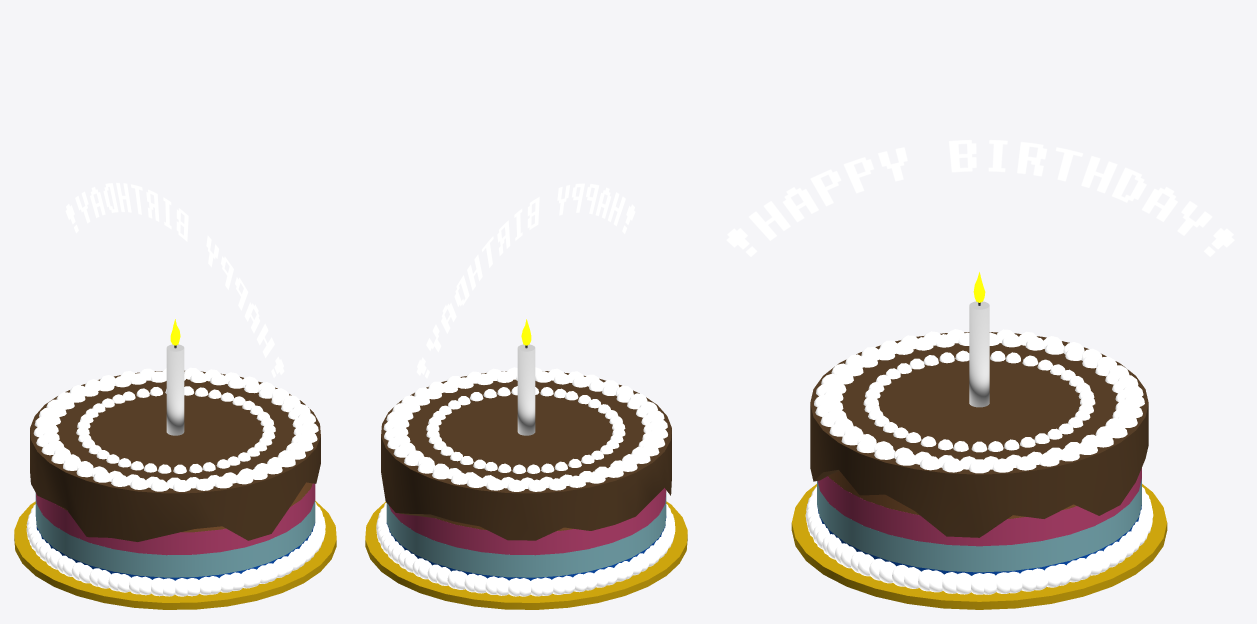
3 renders of one model, left to right at view 1: azimuth 30°, elevation 25°; view 2: azimuth 150°, elevation 25°; view 3: azimuth 270°, elevation 25°, orthographic. The views are drawn at different scales.
Visible parts, largest first — view 1: BR_D-material, White-material, B-material, Gold-material, R-material, Plane, W-material, Material_001-material; view 2: BR_D-material, White-material, B-material, Gold-material, R-material, Plane, W-material, Material_001-material; view 3: BR_D-material, White-material, B-material, Plane, Gold-material, R-material, W-material, Brown-material, Material_001-material.
Boxes of the visible parts, bbox=[...] form: BR_D-material: bbox=[30, 370, 320, 541]; White-material: bbox=[26, 367, 325, 596]; B-material: bbox=[35, 493, 315, 577]; Gold-material: bbox=[14, 501, 336, 609]; R-material: bbox=[36, 483, 315, 555]; Plane: bbox=[65, 182, 284, 377]; W-material: bbox=[166, 344, 184, 435]; Material_001-material: bbox=[35, 516, 314, 580]; BR_D-material: bbox=[381, 371, 671, 540]; White-material: bbox=[376, 367, 675, 596]; B-material: bbox=[386, 493, 666, 577]; Gold-material: bbox=[365, 501, 687, 609]; R-material: bbox=[389, 488, 666, 555]; Plane: bbox=[416, 183, 635, 378]; W-material: bbox=[517, 344, 535, 435]; Material_001-material: bbox=[386, 516, 666, 580]; BR_D-material: bbox=[810, 332, 1148, 537]; White-material: bbox=[805, 329, 1153, 594]; B-material: bbox=[817, 479, 1141, 572]; Plane: bbox=[726, 140, 1234, 256]; Gold-material: bbox=[791, 484, 1167, 609]; R-material: bbox=[817, 468, 1141, 546]; W-material: bbox=[969, 301, 989, 407]; Brown-material: bbox=[828, 471, 1076, 518]; Material_001-material: bbox=[817, 505, 1141, 575].
Bounding box in the file's own units: 2.31 × 3.51 × 3.24.
Materials: 11 (1 with a texture image).
